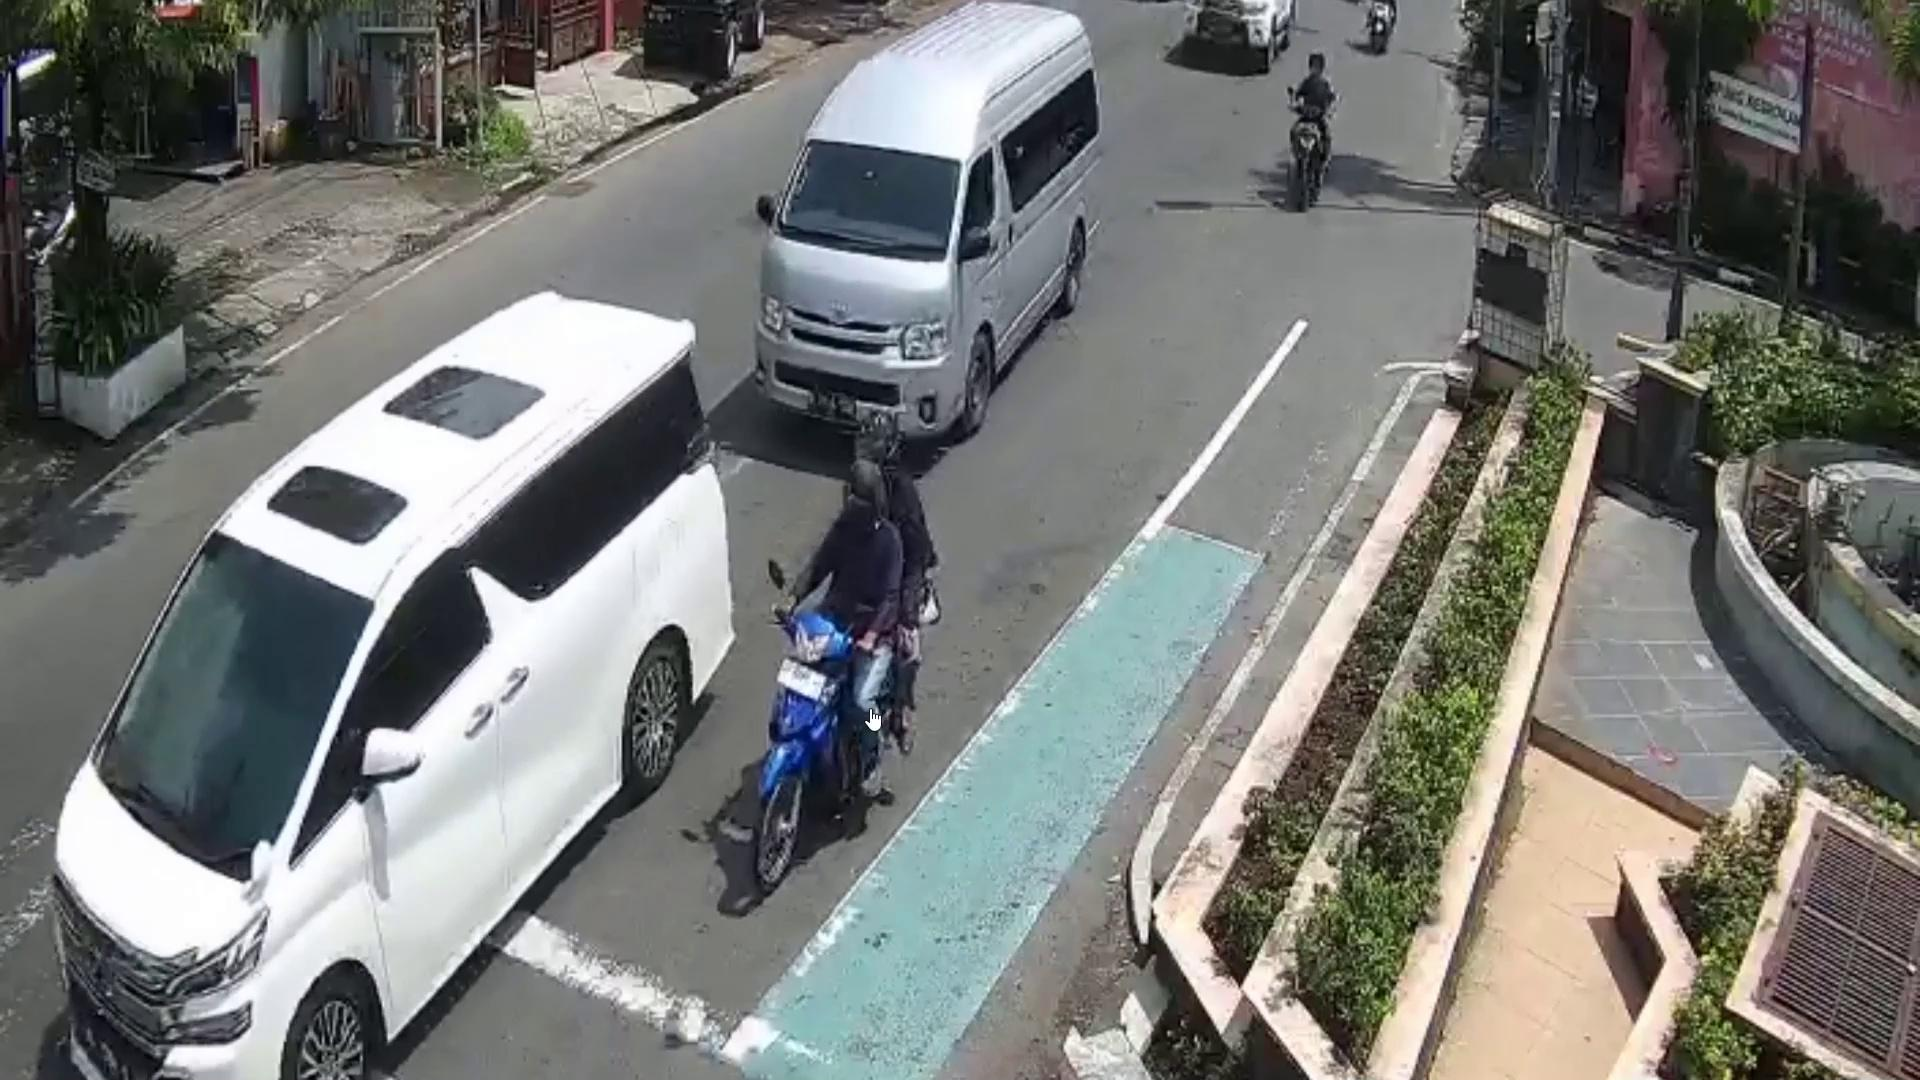bus: (760, 0, 1096, 442)
car: (53, 290, 733, 1080)
motorbike: (749, 608, 882, 891), (1294, 99, 1325, 214)
